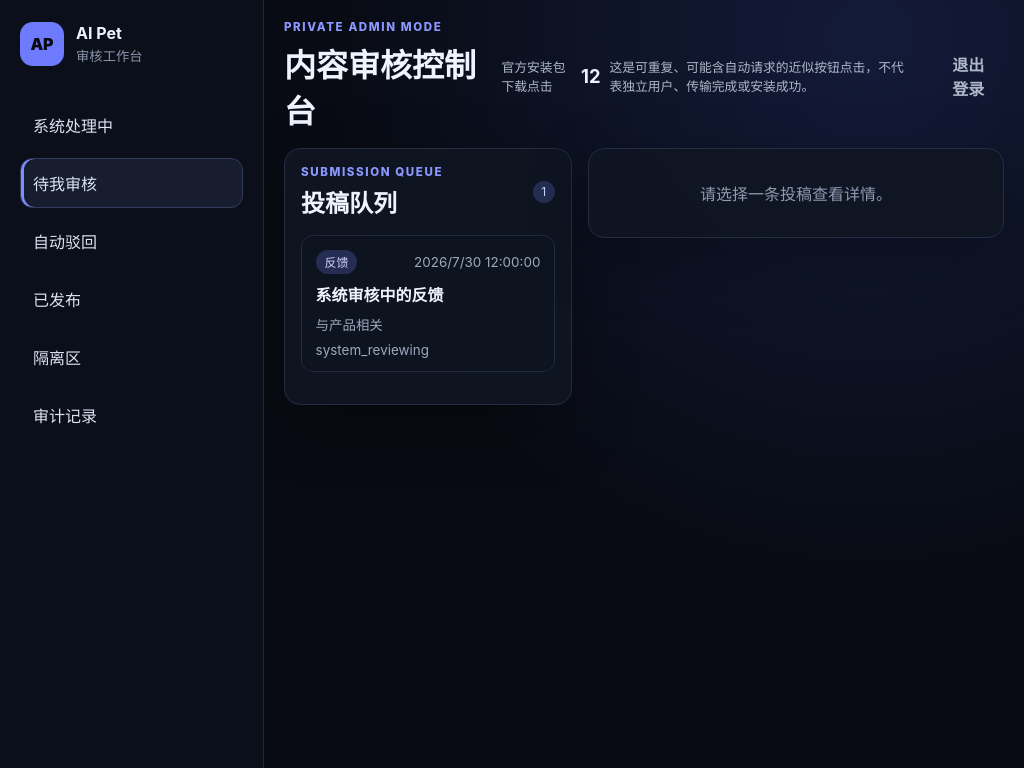
Scenario: 管理员审核工作台 › 系统审核中的投稿提供独立转人工动作
The image size is (1024, 768).
Click the text "系统审核中的反馈" at (380, 295), box 316,285 -> 444,305
(page scrolled)
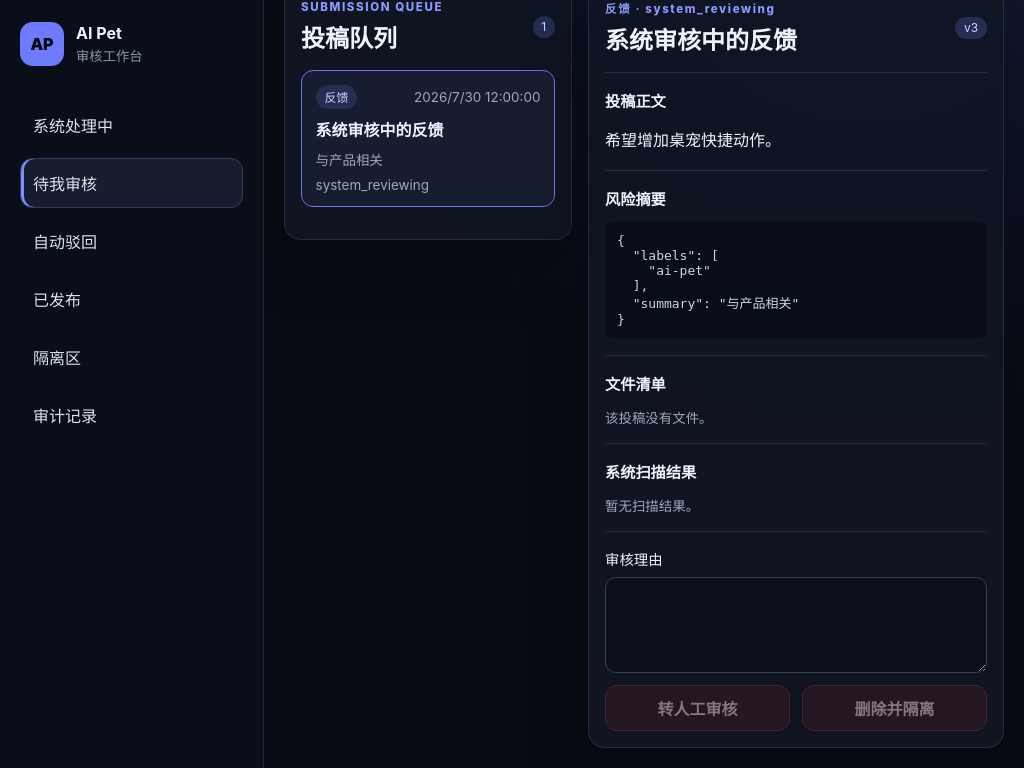
Type "需要管理员人工复核" into the text box labelled "审核理由" at (796, 625), box 605,577 -> 987,673
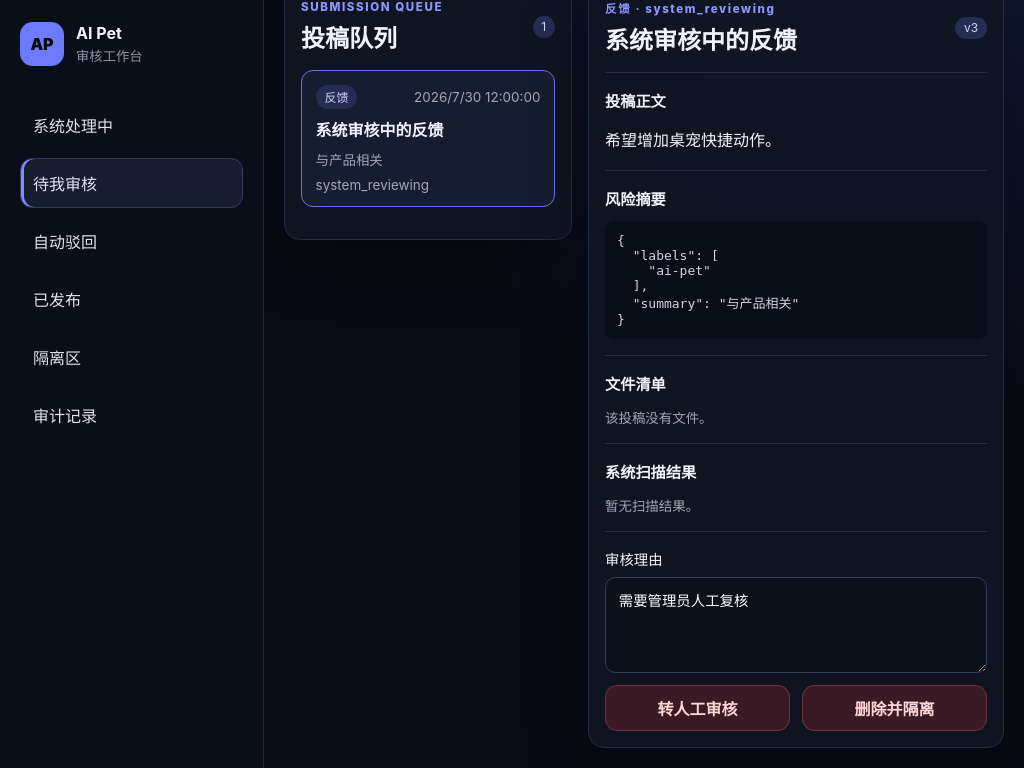
Expected: the button "转人工审核" is enabled, 605,685 -> 790,731
